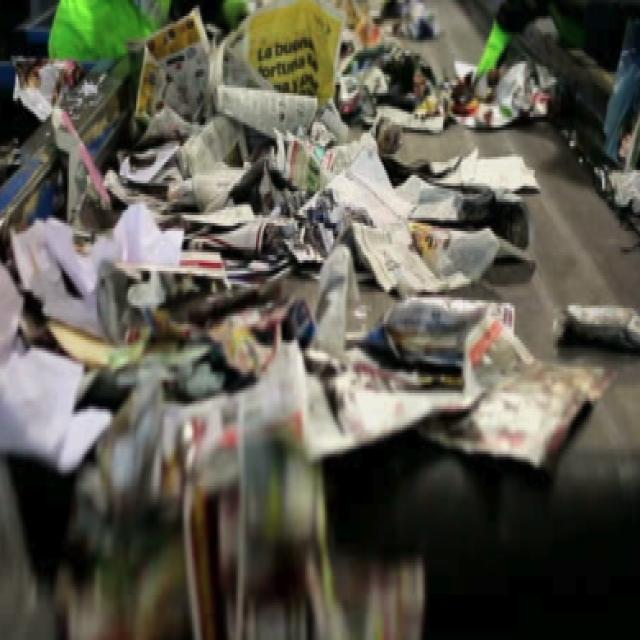Koran: (1, 1, 533, 640)
